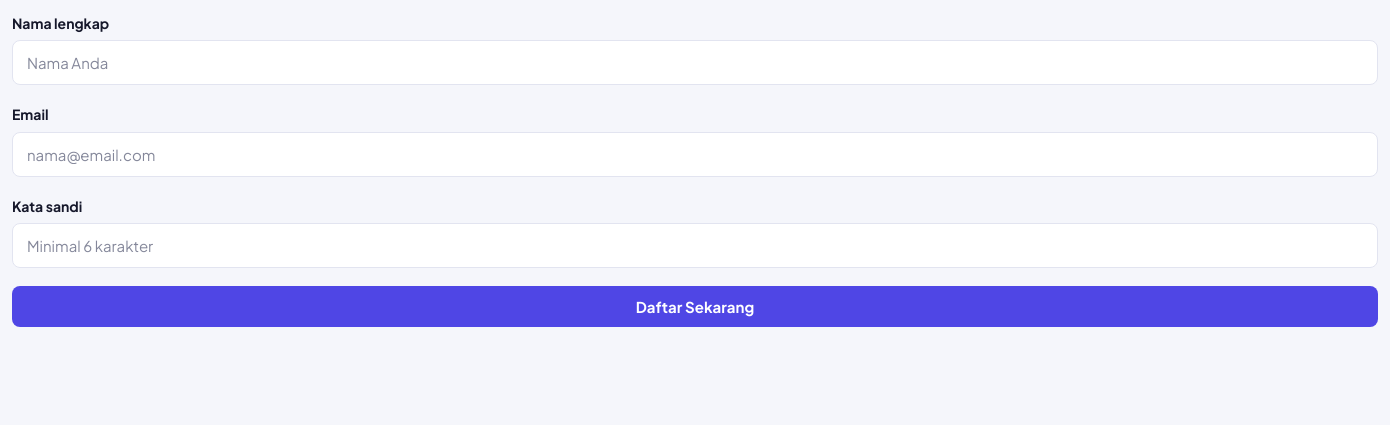
Scenario: RegisterInput component › harus menampilkan pesan galat pada seluruh input wajib ketika form dikirim kosong
Click the button "Daftar Sekarang": (695,307) x1=12 y1=286 x2=1378 y2=327
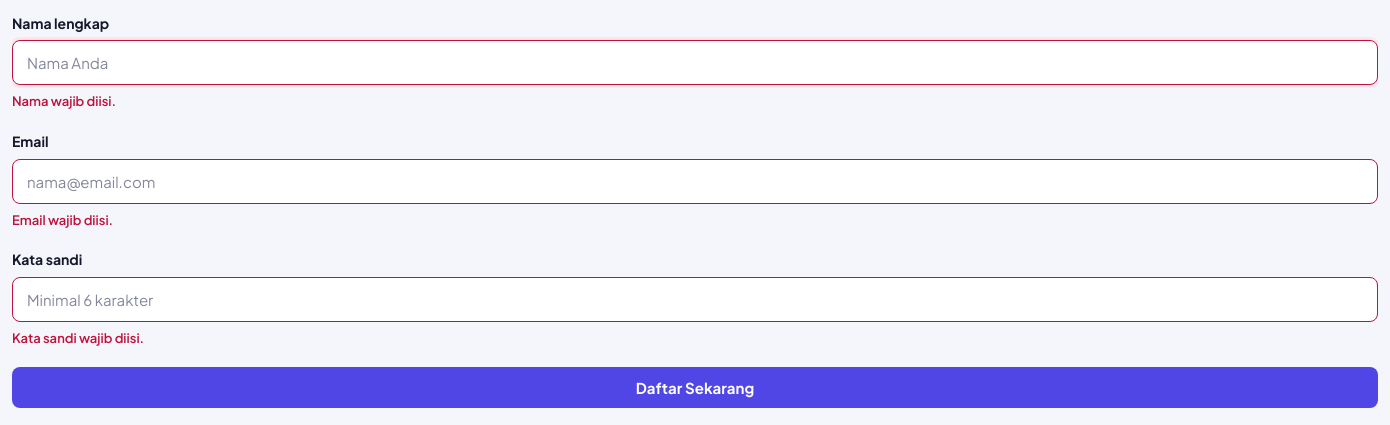
Now the text "Nama wajib diisi." is shown, box x1=12 y1=93 x2=116 y2=109
Now the text "Email wajib diisi." is shown, box x1=12 y1=212 x2=113 y2=228
Now the text "Kata sandi wajib diisi." is shown, box x1=12 y1=330 x2=144 y2=346
